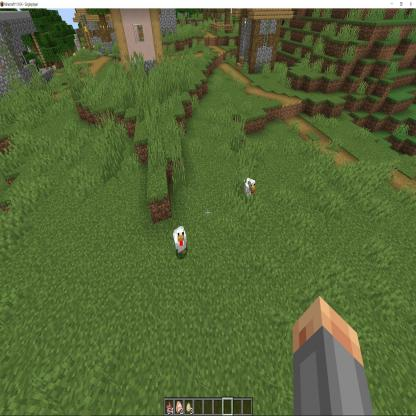minecraft-pigs: (172, 228, 189, 257), (243, 174, 257, 205)
